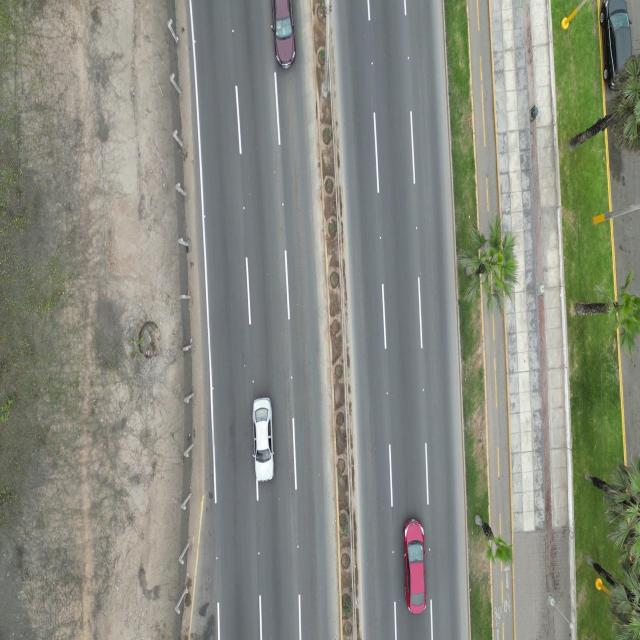Car: (401, 516, 432, 617), (271, 1, 298, 76), (253, 398, 273, 488)
